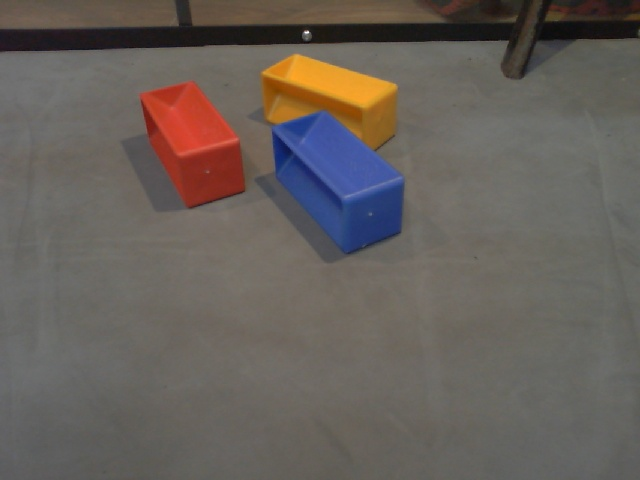BlueSample: (267, 109, 406, 251)
RedSample: (135, 79, 250, 213)
YellowSample: (257, 50, 399, 152)
